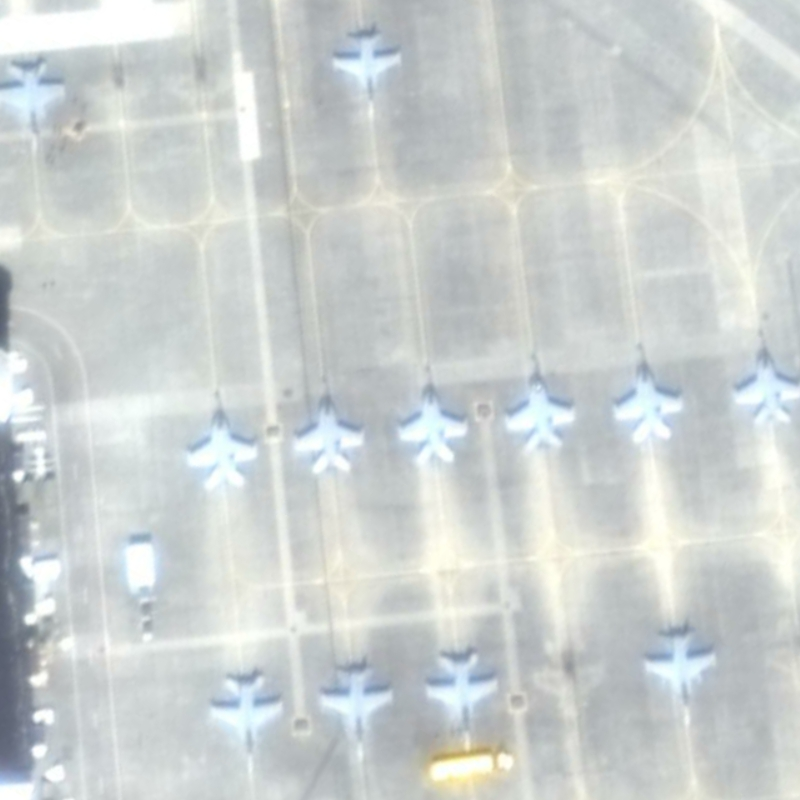A16: (203, 664, 293, 780), (178, 383, 267, 496), (419, 642, 507, 755), (637, 619, 722, 733), (324, 20, 413, 128), (313, 655, 397, 766), (287, 372, 371, 481), (607, 334, 686, 447), (500, 349, 582, 457), (392, 360, 472, 470), (1, 55, 76, 161), (727, 325, 800, 430)
